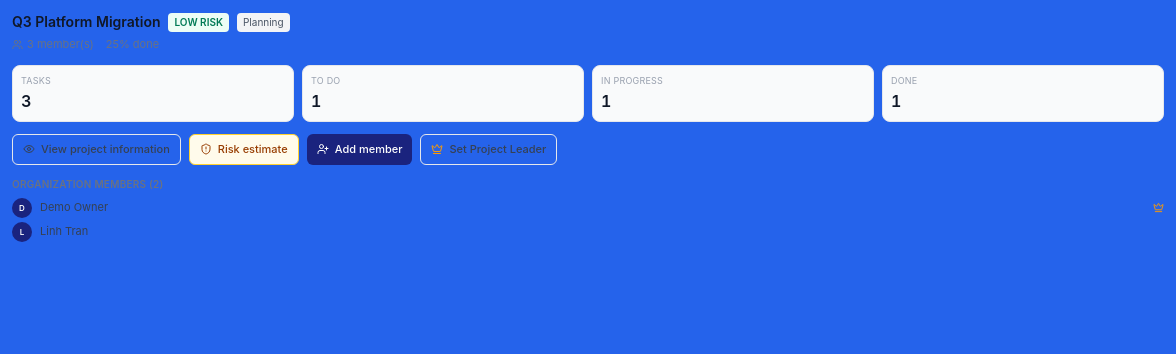
Test case: OrganizationProjectPanel › reports only the tasks the sweep found to be at risk
Expected: the text "Tasks" is shown, [21,74,51,86]
Click the button "Risk estimate". click: (244, 149)
box: [189,134,299,164]
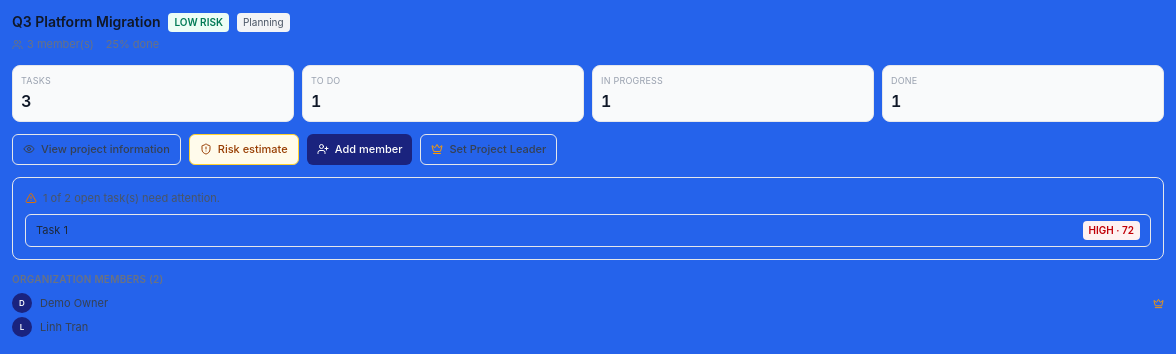
Expected: the text "1 of 2 open task(s) need attention." is shown, [25,190,220,204]
Expected: the text "HIGH · 72" is shown, [1083,221,1140,240]
